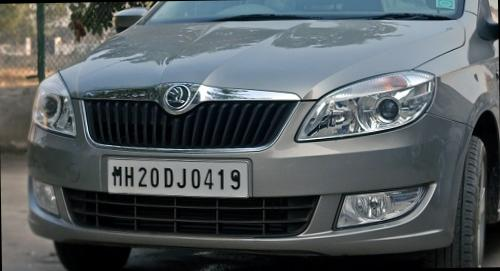plate: (100, 147, 260, 210)
